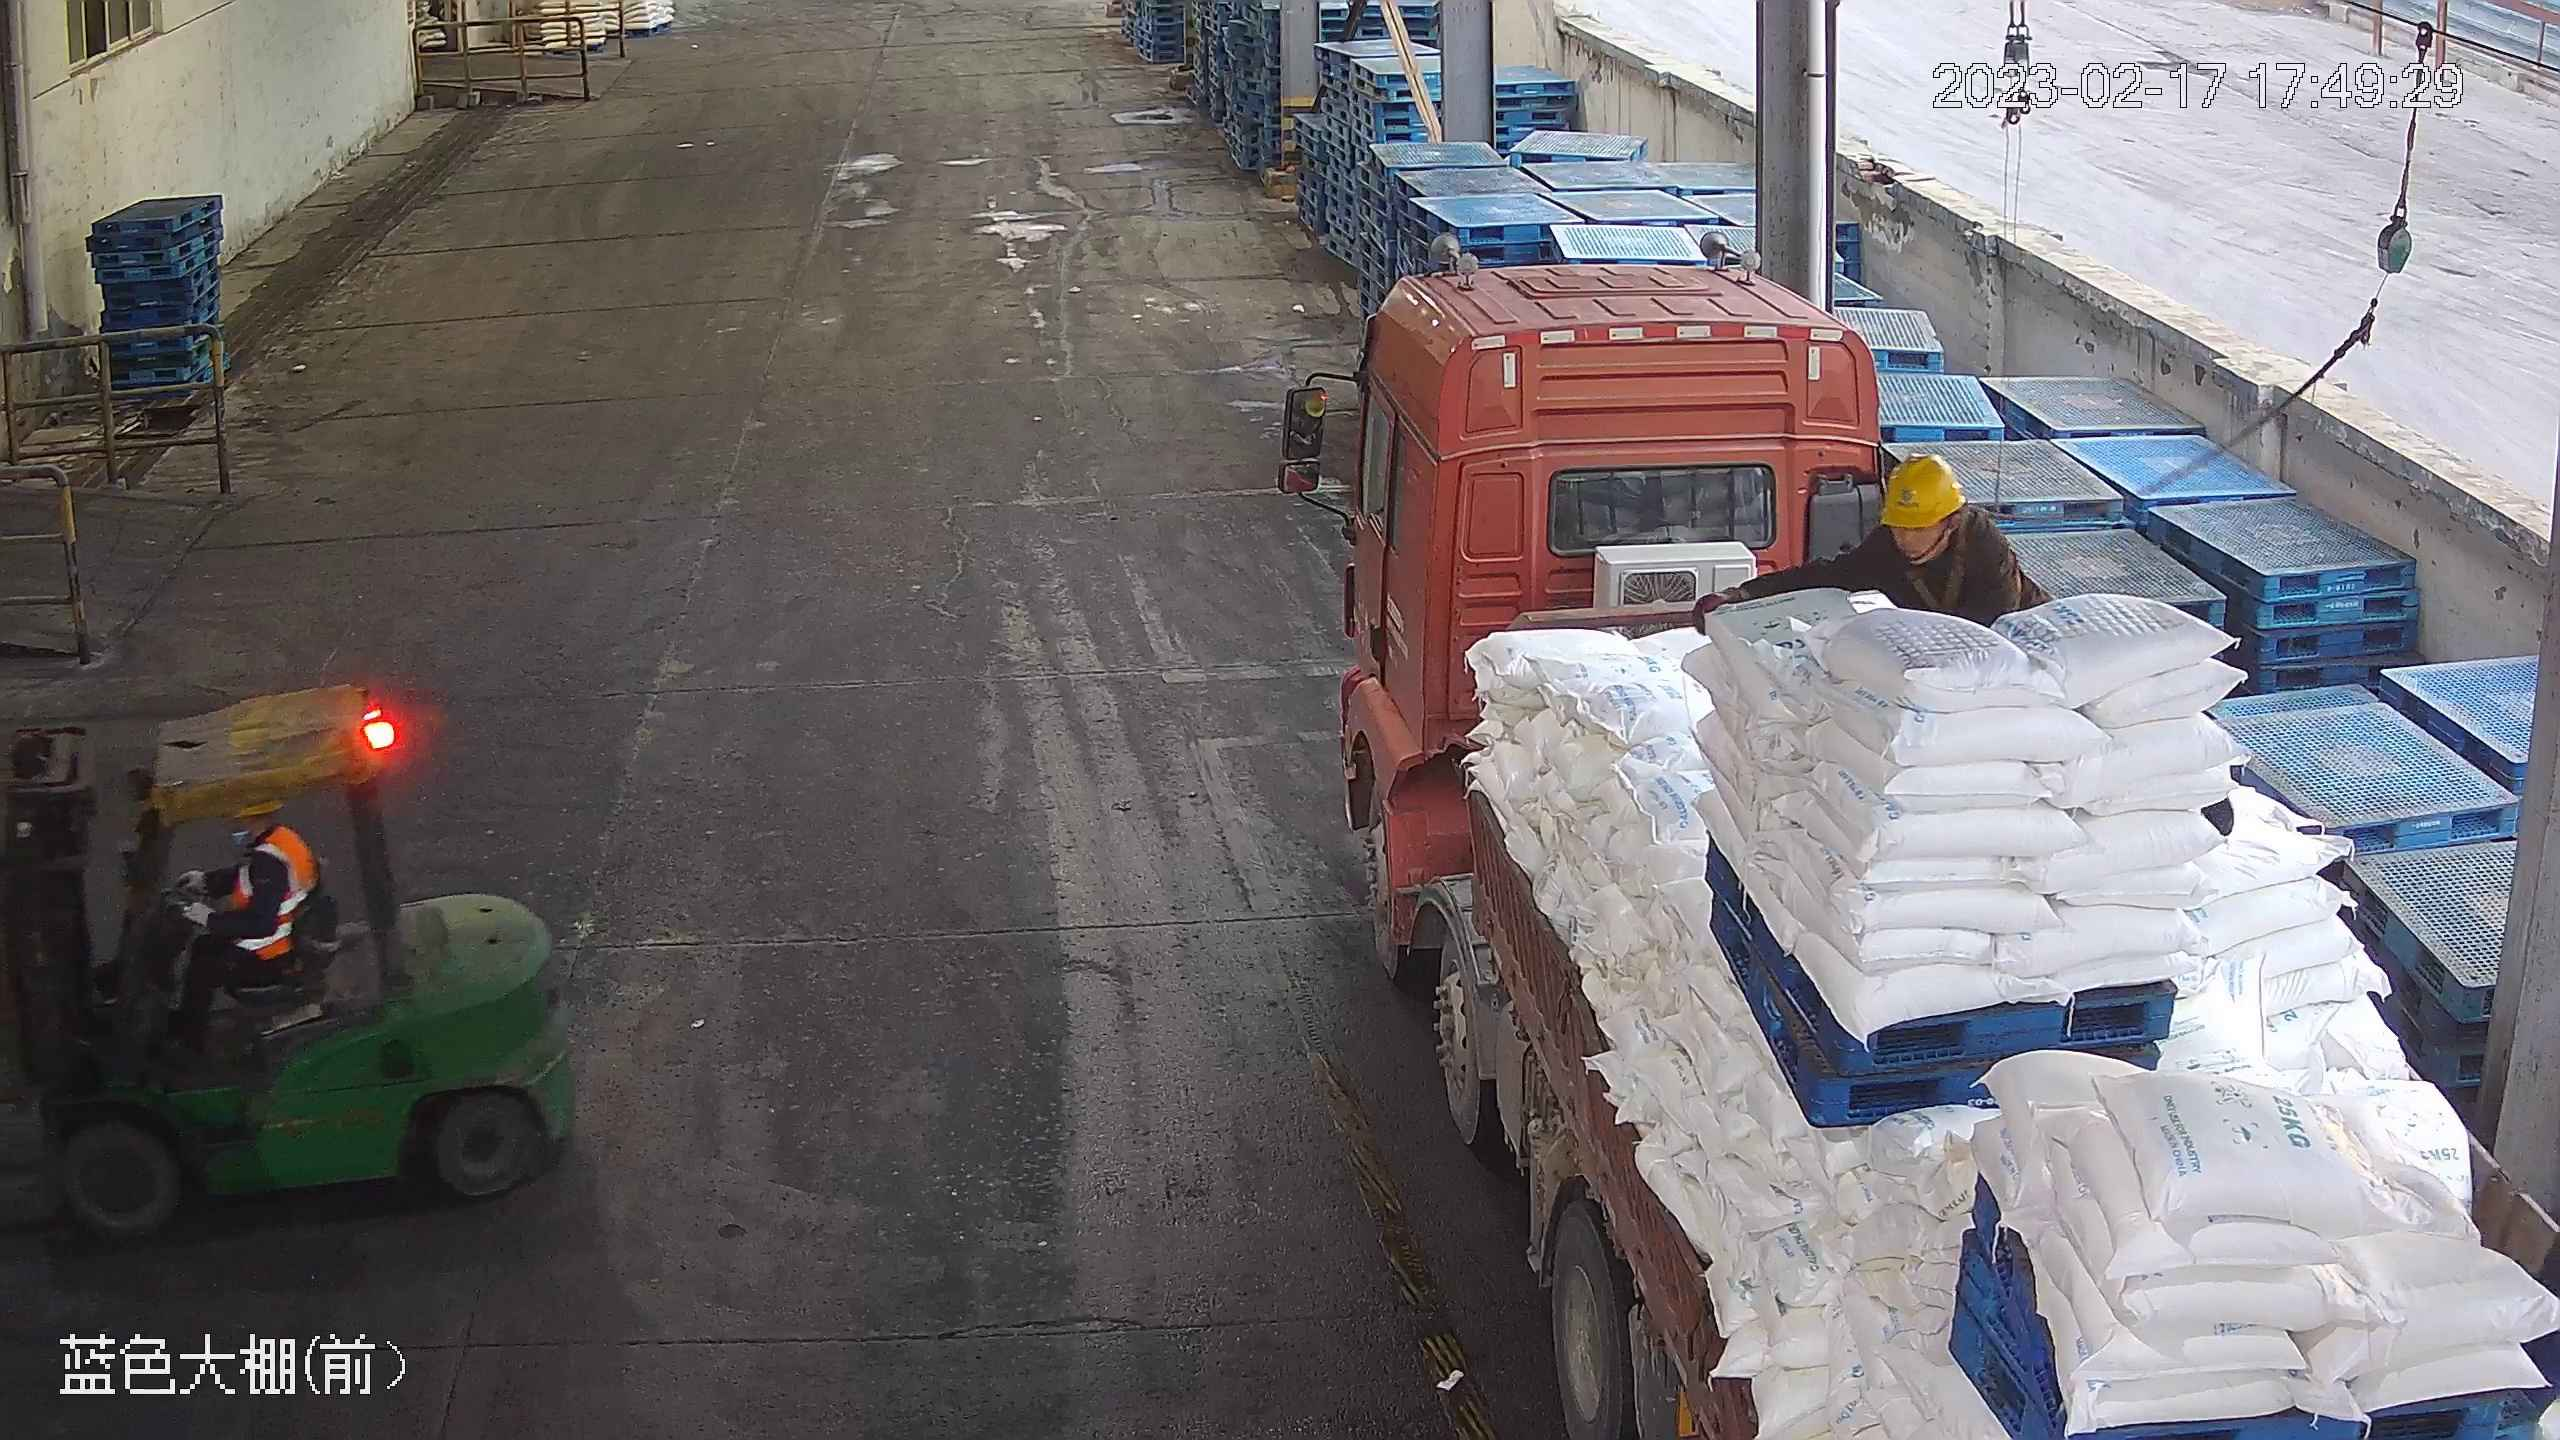belt: (1897, 509, 1991, 616)
head: (1843, 449, 2016, 588), (222, 802, 315, 880)
helmet: (1879, 449, 1963, 531)
people: (147, 798, 323, 1051)
truck: (1271, 251, 2559, 1440)
